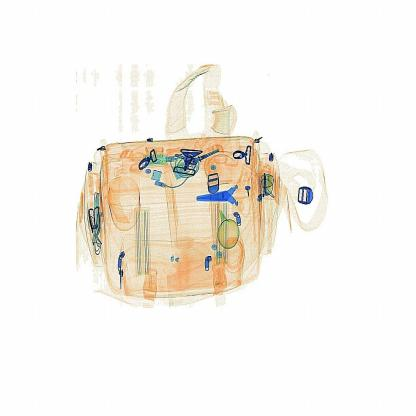gun: (189, 164, 263, 232)
